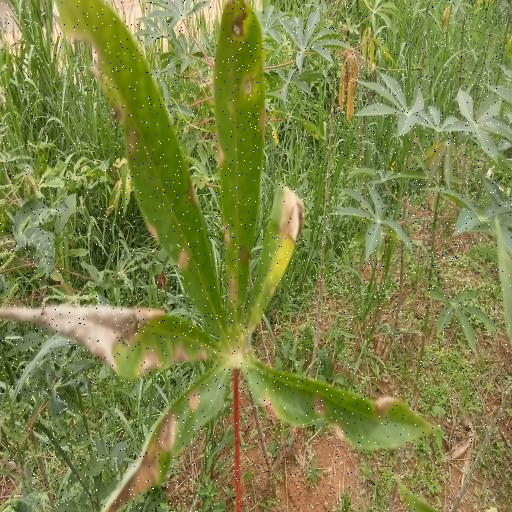Cassava_Brown_Leaf_Spot: (1, 0, 441, 503)
